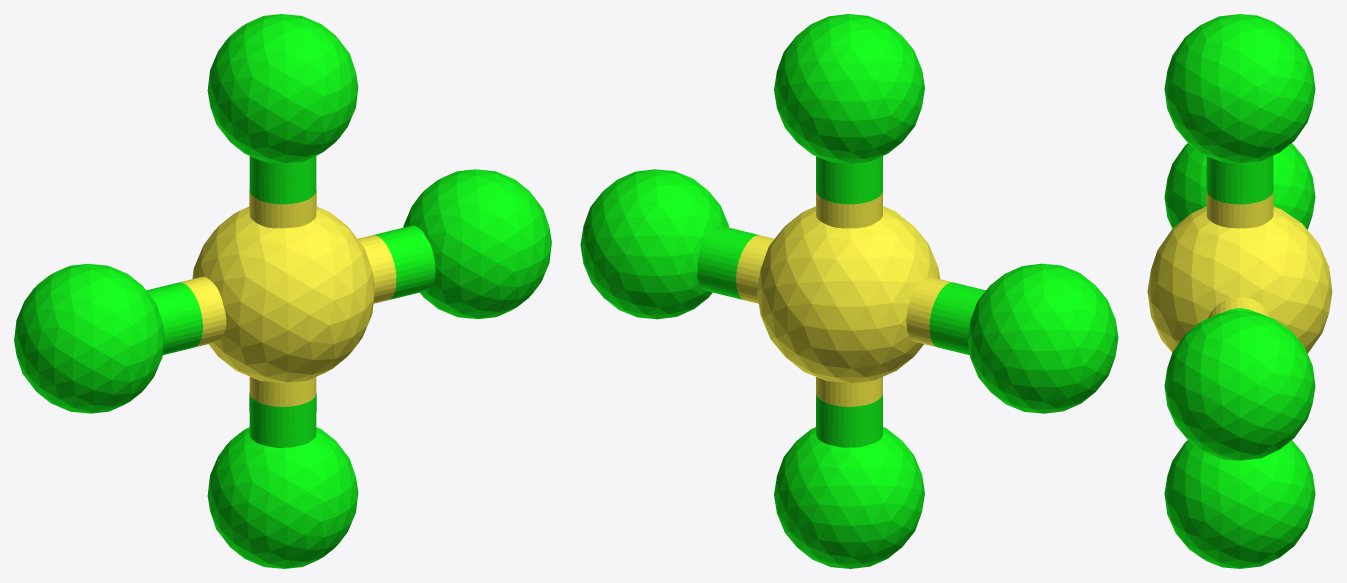
The picture shows the model from 3 angles, left to right: view 1: azimuth 30°, elevation 25°; view 2: azimuth 150°, elevation 25°; view 3: azimuth 270°, elevation 25°; orthographic projection.
Parts seen in each view (by area): view 1: Shape_IndexedFaceSet.001, Shape_IndexedFaceSet, Shape_IndexedFaceSet.002, Shape_IndexedFaceSet.003, Shape_IndexedFaceSet.004, Shape_IndexedFaceSet.010, Shape_IndexedFaceSet.013, Shape_IndexedFaceSet.007, Shape_IndexedFaceSet.015, Shape_IndexedFaceSet.012, Shape_IndexedFaceSet.017, Shape_IndexedFaceSet.009 (+1 smaller); view 2: Shape_IndexedFaceSet.001, Shape_IndexedFaceSet, Shape_IndexedFaceSet.002, Shape_IndexedFaceSet.003, Shape_IndexedFaceSet.004, Shape_IndexedFaceSet.010, Shape_IndexedFaceSet.007, Shape_IndexedFaceSet.013, Shape_IndexedFaceSet.015, Shape_IndexedFaceSet.012, Shape_IndexedFaceSet.017, Shape_IndexedFaceSet.009 (+1 smaller); view 3: Shape_IndexedFaceSet.004, Shape_IndexedFaceSet.002, Shape_IndexedFaceSet.001, Shape_IndexedFaceSet.003, Shape_IndexedFaceSet, Shape_IndexedFaceSet.013, Shape_IndexedFaceSet.012, Shape_IndexedFaceSet.005.
Part boxes in pixels (x1,y1,x2,y2): Shape_IndexedFaceSet.001: (192, 206, 375, 382); Shape_IndexedFaceSet: (14, 263, 164, 413); Shape_IndexedFaceSet.002: (207, 14, 358, 163); Shape_IndexedFaceSet.003: (207, 427, 358, 568); Shape_IndexedFaceSet.004: (403, 169, 551, 319); Shape_IndexedFaceSet.010: (249, 393, 316, 447); Shape_IndexedFaceSet.013: (249, 156, 316, 204); Shape_IndexedFaceSet.007: (373, 225, 435, 299); Shape_IndexedFaceSet.015: (146, 282, 202, 354); Shape_IndexedFaceSet.012: (249, 190, 316, 228); Shape_IndexedFaceSet.017: (180, 276, 226, 347); Shape_IndexedFaceSet.009: (249, 377, 316, 406); Shape_IndexedFaceSet.001: (757, 206, 939, 383); Shape_IndexedFaceSet: (967, 263, 1118, 413); Shape_IndexedFaceSet.002: (774, 14, 924, 163); Shape_IndexedFaceSet.003: (774, 427, 924, 568); Shape_IndexedFaceSet.004: (580, 169, 728, 319); Shape_IndexedFaceSet.010: (816, 394, 882, 447); Shape_IndexedFaceSet.007: (697, 225, 759, 299); Shape_IndexedFaceSet.013: (816, 156, 882, 204); Shape_IndexedFaceSet.015: (929, 282, 985, 355); Shape_IndexedFaceSet.012: (816, 192, 882, 228); Shape_IndexedFaceSet.017: (906, 276, 951, 346); Shape_IndexedFaceSet.009: (816, 377, 882, 406); Shape_IndexedFaceSet.004: (1164, 311, 1315, 460); Shape_IndexedFaceSet.002: (1164, 14, 1315, 163); Shape_IndexedFaceSet.001: (1147, 206, 1332, 353); Shape_IndexedFaceSet.003: (1164, 440, 1315, 568); Shape_IndexedFaceSet: (1164, 143, 1315, 229); Shape_IndexedFaceSet.013: (1206, 156, 1273, 204); Shape_IndexedFaceSet.012: (1206, 190, 1273, 228); Shape_IndexedFaceSet.005: (1208, 297, 1271, 318).
Size of the model in its own units: 1.73 by 1.73 by 0.5368.
